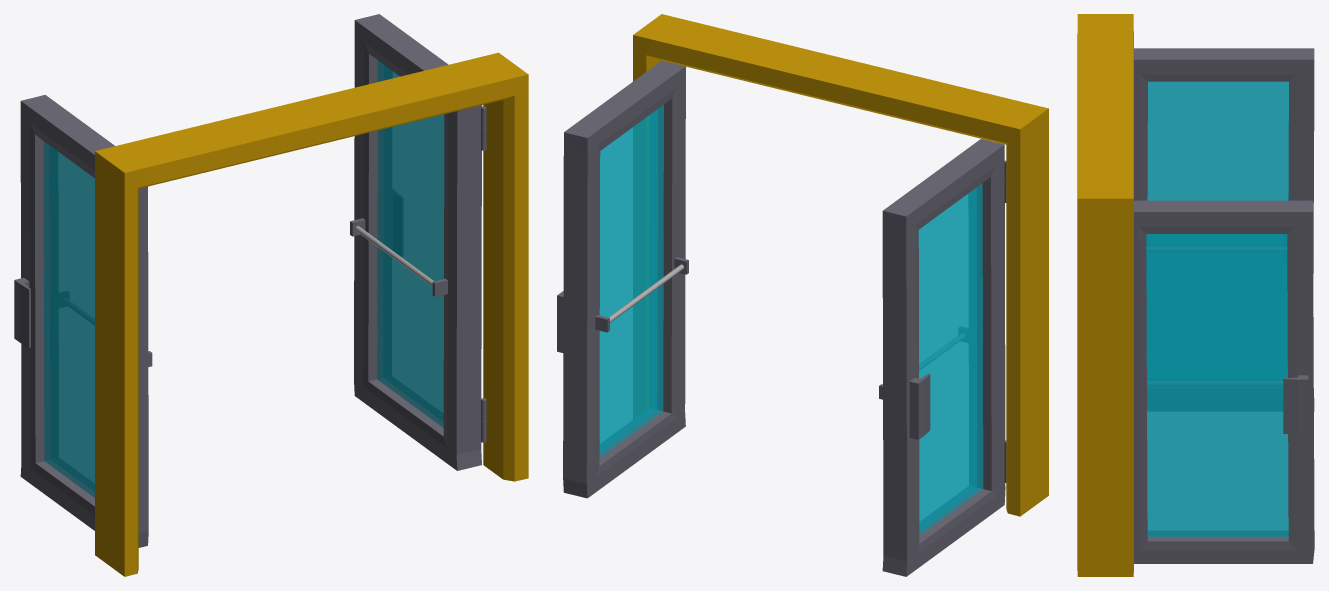
Rendered from Door.fbx.
The picture shows the model from 3 angles, left to right: view 1: azimuth 30°, elevation 25°; view 2: azimuth 150°, elevation 25°; view 3: azimuth 270°, elevation 25°; orthographic projection. The views are drawn at different scales.
Visible parts, largest first — view 1: door3, door1, door2; view 2: door1, door2, door3; view 3: door1, door3, door2.
Part boxes in pixels (x1,y1,x2,y2): door3: (95, 52, 528, 576); door1: (350, 14, 486, 470); door2: (14, 95, 152, 547); door1: (557, 60, 688, 498); door2: (879, 139, 1006, 576); door3: (633, 14, 1048, 516); door1: (1134, 200, 1314, 563); door3: (1077, 14, 1133, 576); door2: (1134, 48, 1314, 411).
Bounding box in the file's own units: 243 × 233 × 132.
